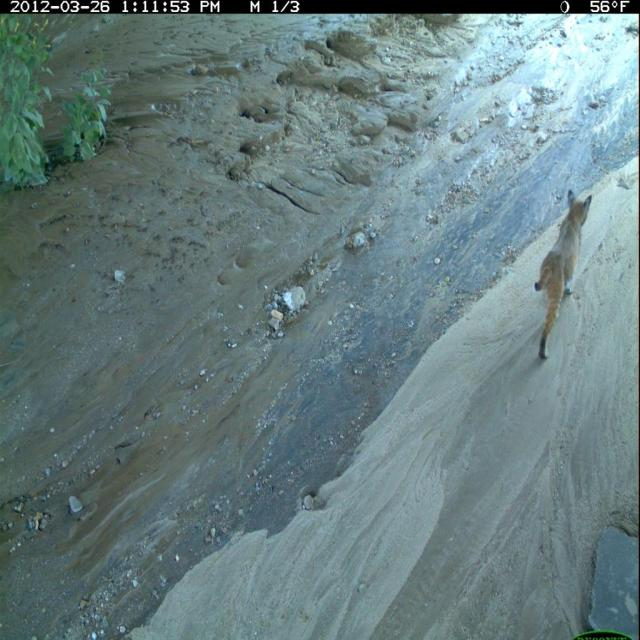bobcat: (533, 185, 596, 365)
